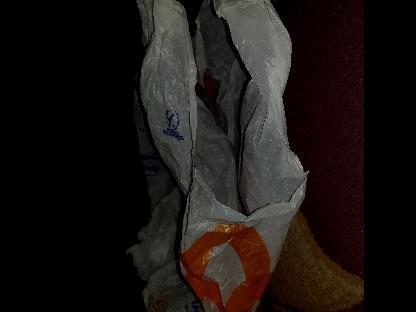Others: (126, 0, 304, 312)
